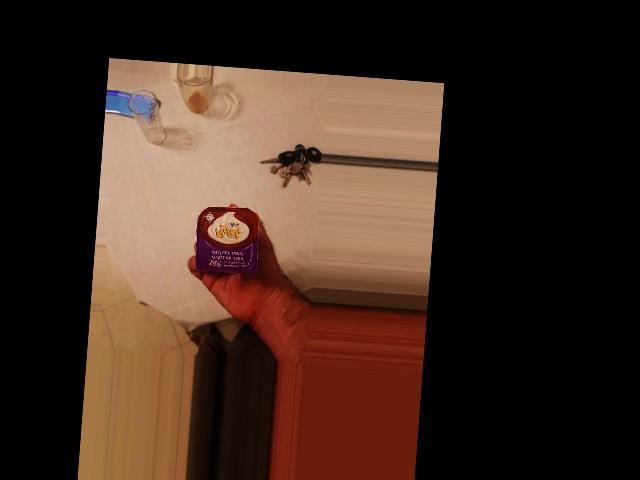milky: (119, 157, 194, 231)
